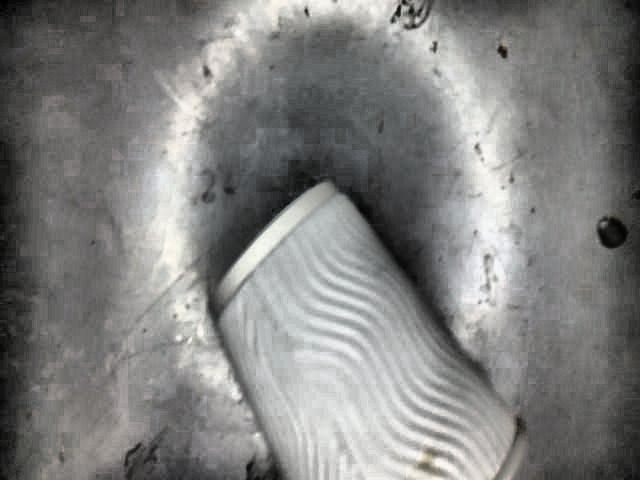Paper: (204, 176, 529, 477)
